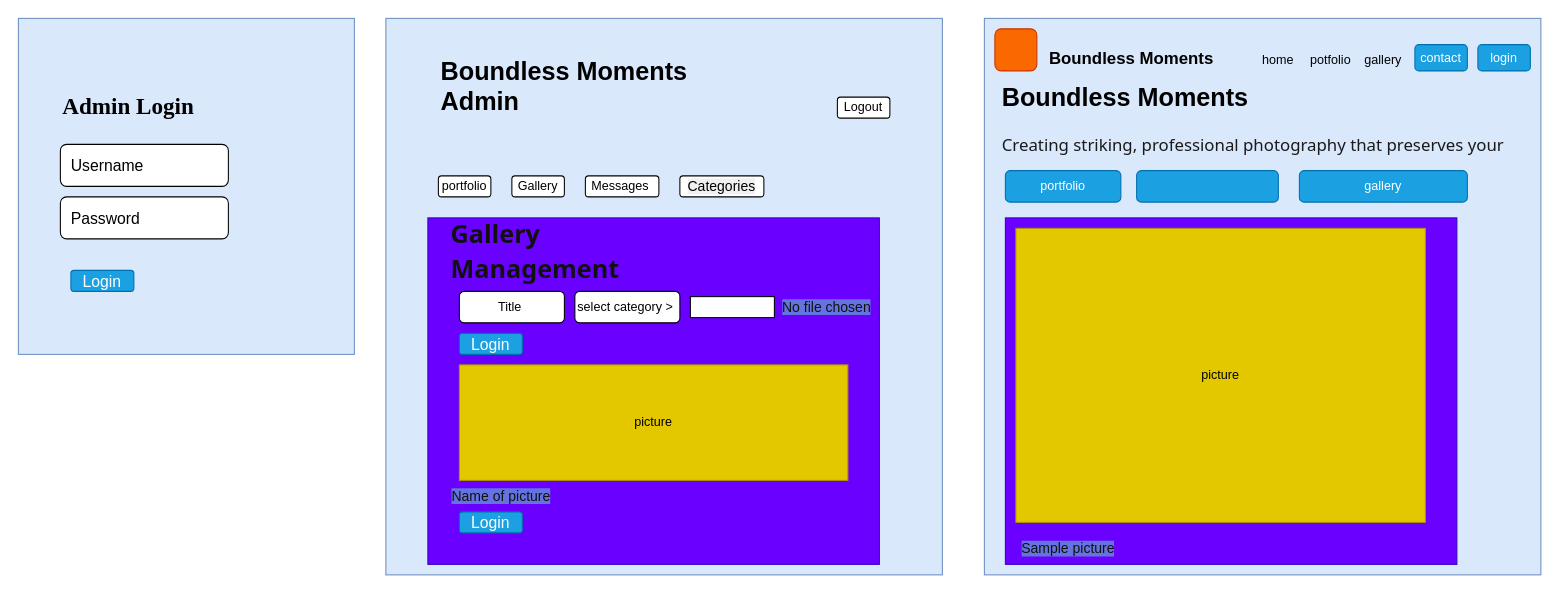
Some shapes in this 1559 by 593 pixel diagram are drawn without their labels. The centre of each missing label's shape, as x and y in pixels:
"BM" belongs at point 1015,49.
"book a shoot" belongs at point 1207,186.
"choose file" belongs at point 731,307.
